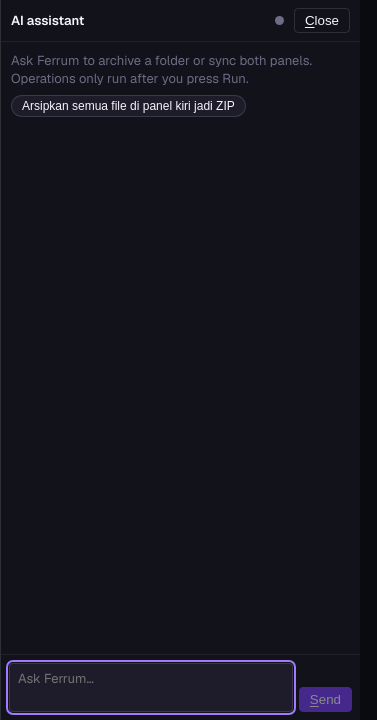
Test: ChatPanel › focuses the composer and sends on Enter (Shift+Enter does not send)
The width and height of the screenshot is (377, 720).
In the text box named "Message to AI assistant": (151, 687) [9, 663, 293, 712], type "zip left"
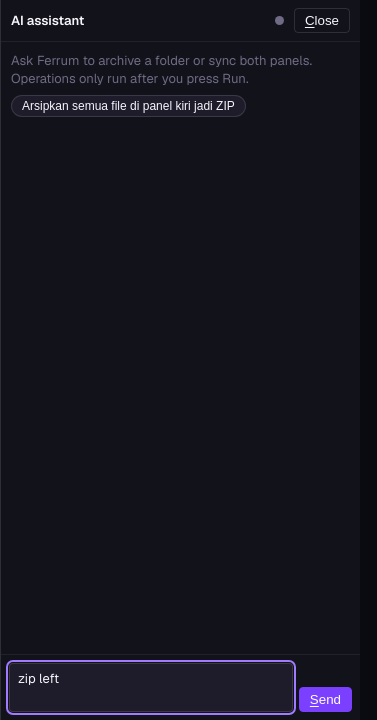
Press Enter in the text box named "Message to AI assistant", box [9, 663, 293, 712]
Press Enter in the text box named "Message to AI assistant", box [9, 663, 293, 712]
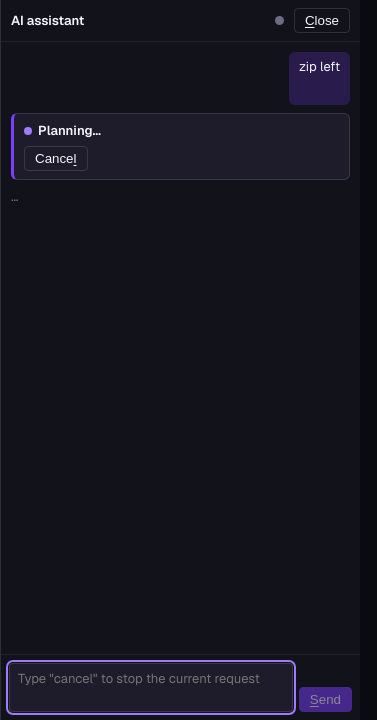
Now the text "zip left" is shown, box [299, 58, 340, 76]
Now the message "Planning…" is shown, box [24, 122, 101, 139]
